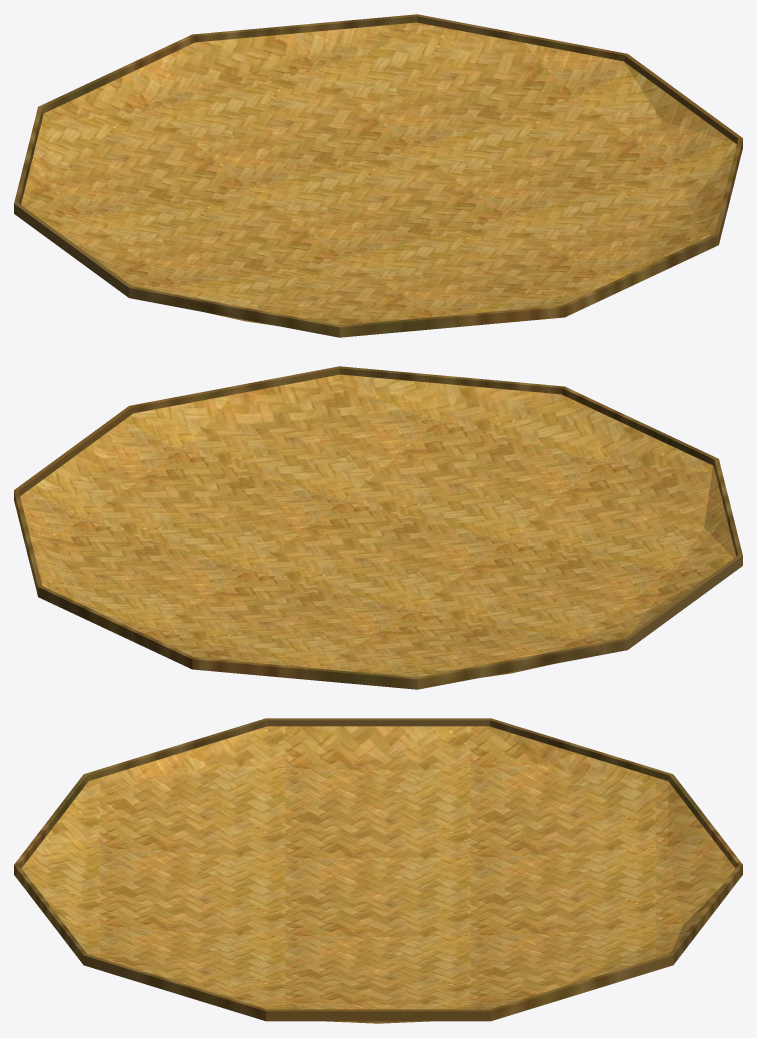
The model's file is sift.fbx.
3 views of the same model, one above another, from view 1: azimuth 30°, elevation 25°; view 2: azimuth 150°, elevation 25°; view 3: azimuth 270°, elevation 25° (orthographic). The views are drawn at different scales.
Parts seen in each view (by area): view 1: Circle.001; view 2: Circle.001; view 3: Circle.001.
Boxes of the visible parts, x1,y1,x2,y2 form: Circle.001: [14, 14, 742, 337]; Circle.001: [14, 366, 742, 689]; Circle.001: [14, 718, 742, 1023].
Bounding box in the file's own units: 4.43 × 4.66 × 0.2772.
2 materials, 2 textured.
